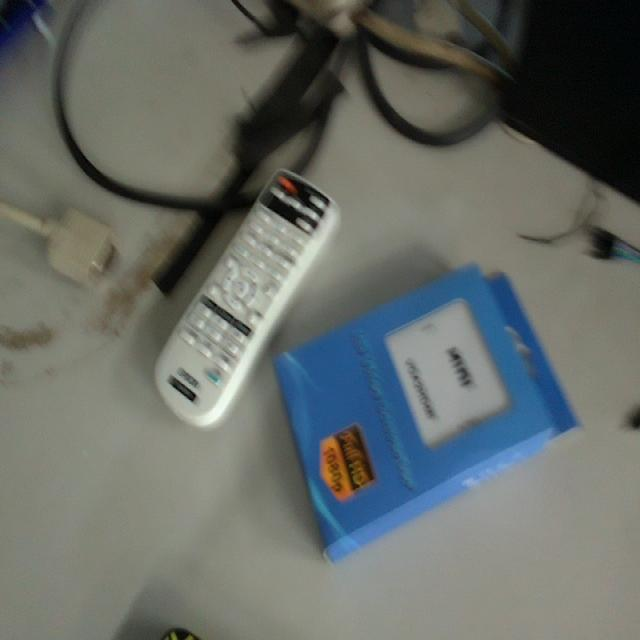remote: (280, 267, 582, 563), (160, 168, 340, 427)
